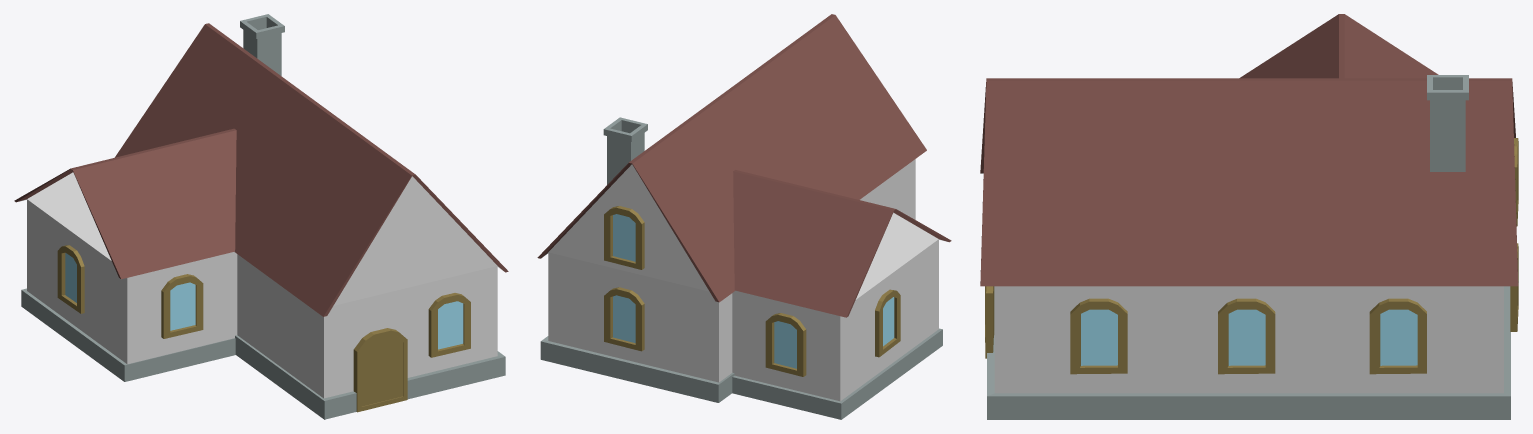
Rendered from House.glb.
3 renders of one model, left to right at view 1: azimuth 30°, elevation 25°; view 2: azimuth 150°, elevation 25°; view 3: azimuth 270°, elevation 25°, orthographic. The views are drawn at different scales.
Visible parts, largest first — view 1: Cube.2593; view 2: Cube.2593; view 3: Cube.2593.
Boxes of the visible parts, x1,y1,x2,y2 form: Cube.2593: (14, 14, 508, 419); Cube.2593: (537, 14, 951, 419); Cube.2593: (980, 14, 1518, 419).
Size of the model in its own units: 1.52 by 1.14 by 1.87.
